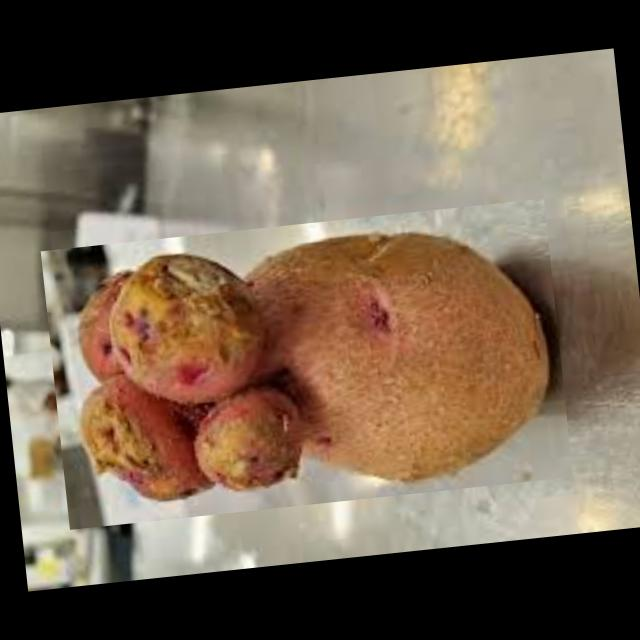Damaged potato: (39, 198, 572, 530)
